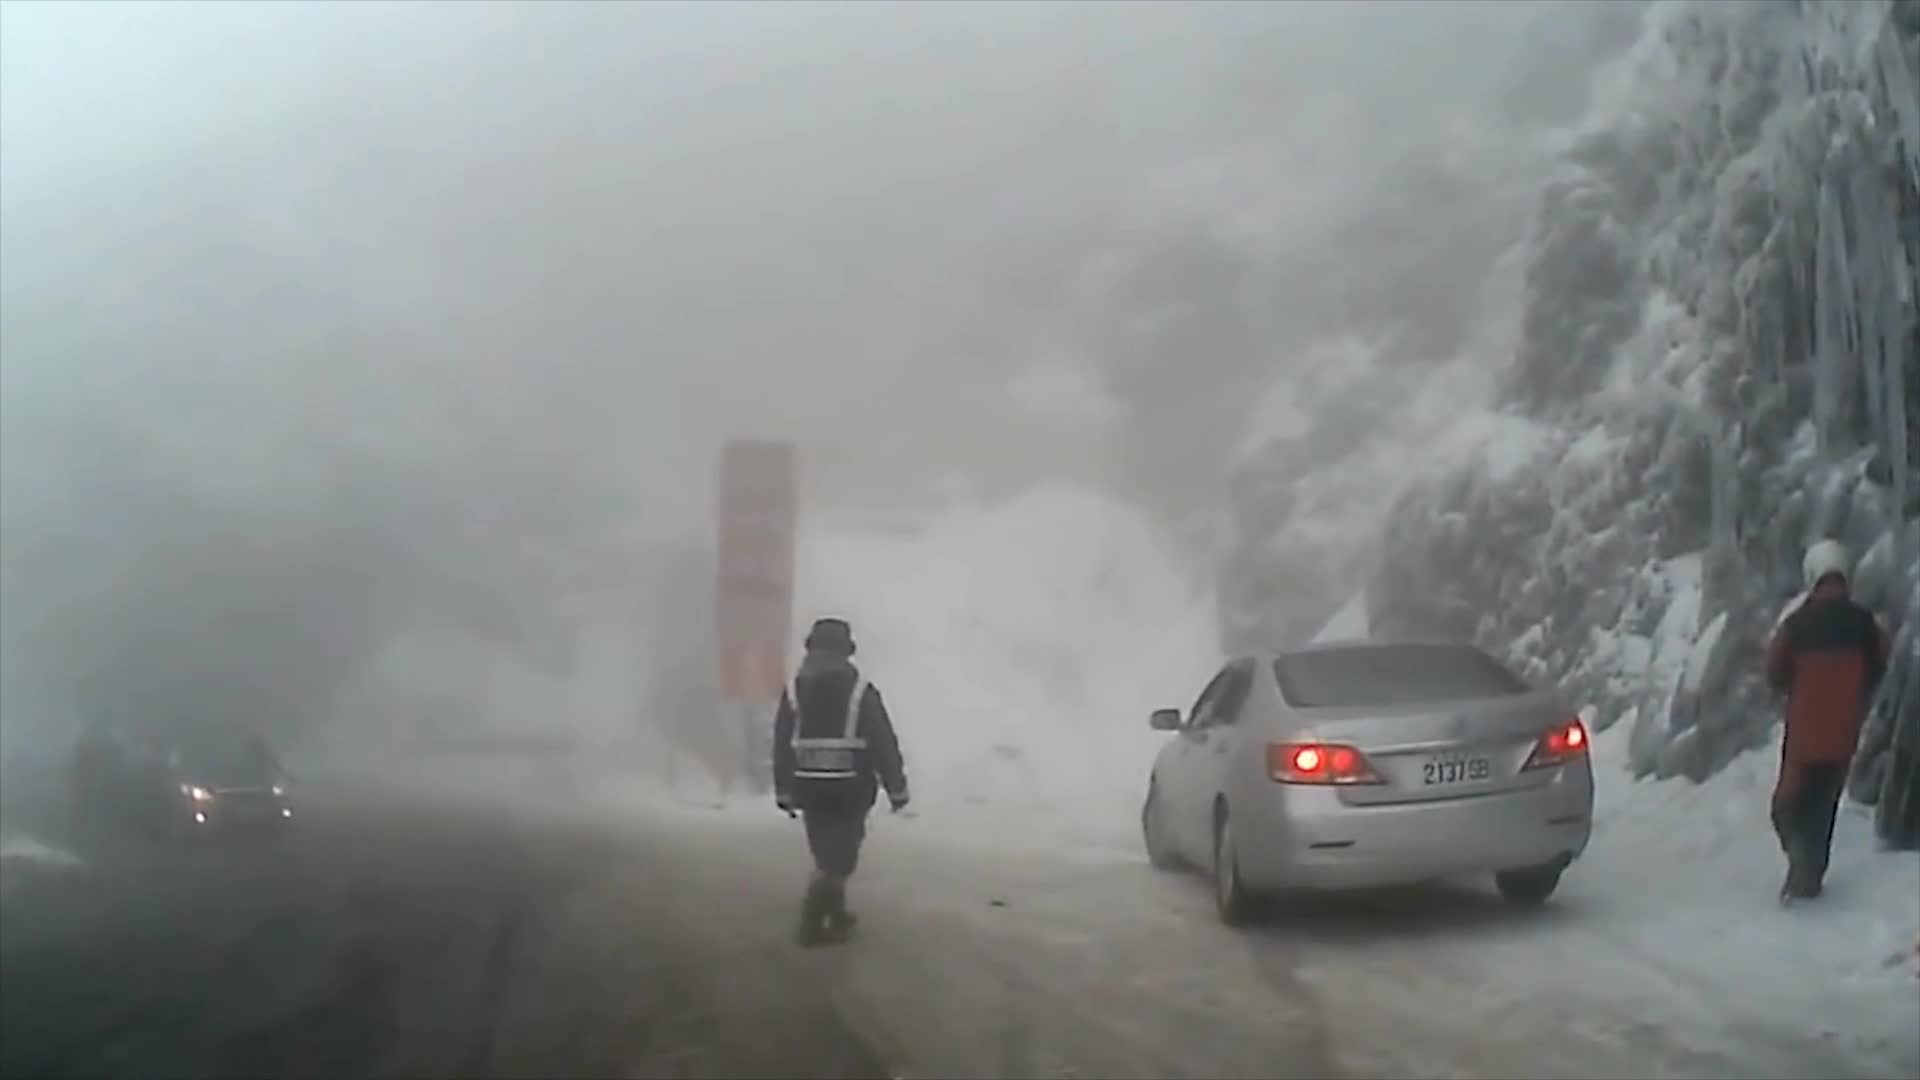pedestrian: (769, 619, 920, 948), (1755, 534, 1877, 912)
vehicle: (1134, 632, 1590, 922)
